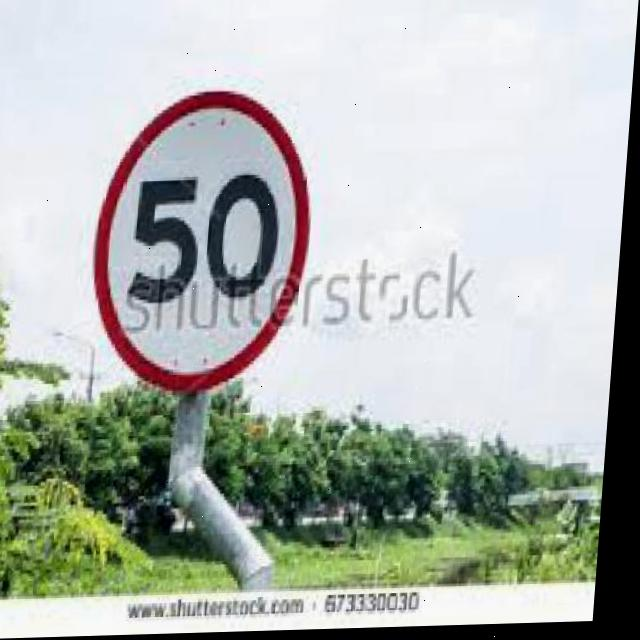Speed limit 50: (85, 86, 326, 400)
